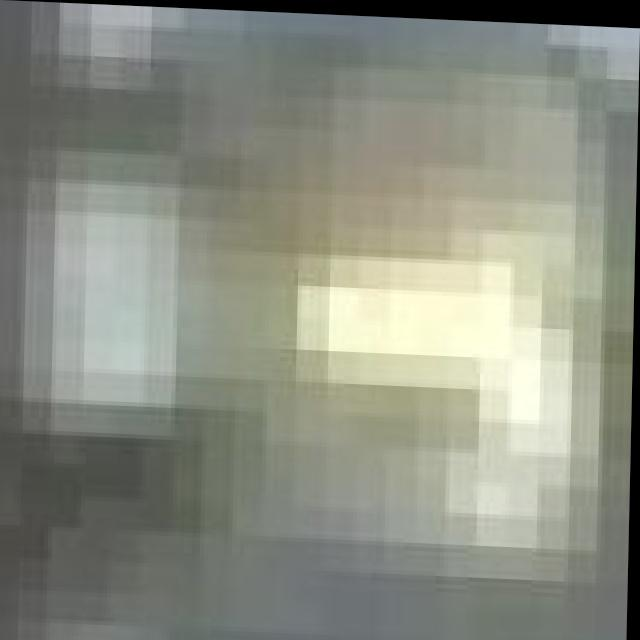transistor: (0, 0, 308, 640)
